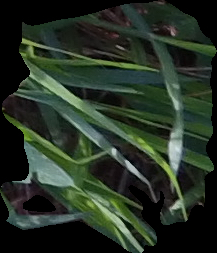grass: (1, 1, 215, 252)
